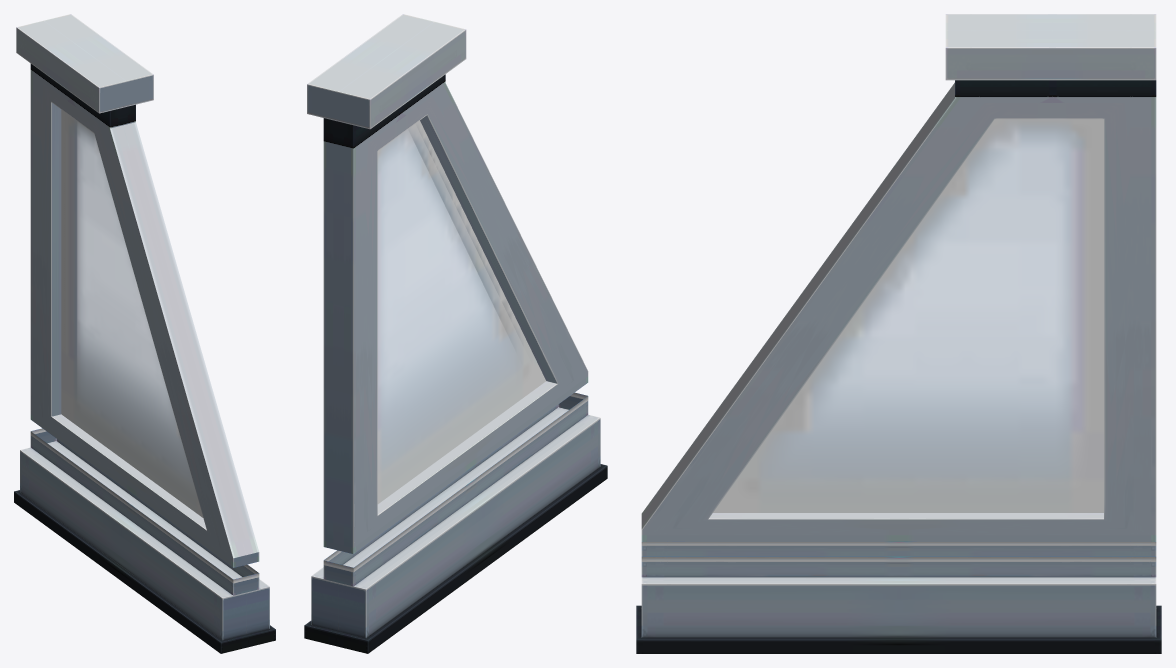
Rendered from my_millenniumlounge_01_partition_02.glb.
3 renders of one model, left to right at view 1: azimuth 30°, elevation 25°; view 2: azimuth 150°, elevation 25°; view 3: azimuth 270°, elevation 25°, orthographic. The views are drawn at different scales.
Parts seen in each view (by area): view 1: my_millenniumlounge_01_partition_02; view 2: my_millenniumlounge_01_partition_02; view 3: my_millenniumlounge_01_partition_02.
Boxes of the visible parts, <box> form: my_millenniumlounge_01_partition_02: <box>14,14,275,653</box>; my_millenniumlounge_01_partition_02: <box>304,14,607,653</box>; my_millenniumlounge_01_partition_02: <box>636,14,1161,653</box>.
Size of the model in its own units: 0.00183 by 0.0152 by 0.012.
3 materials, 3 textured.
